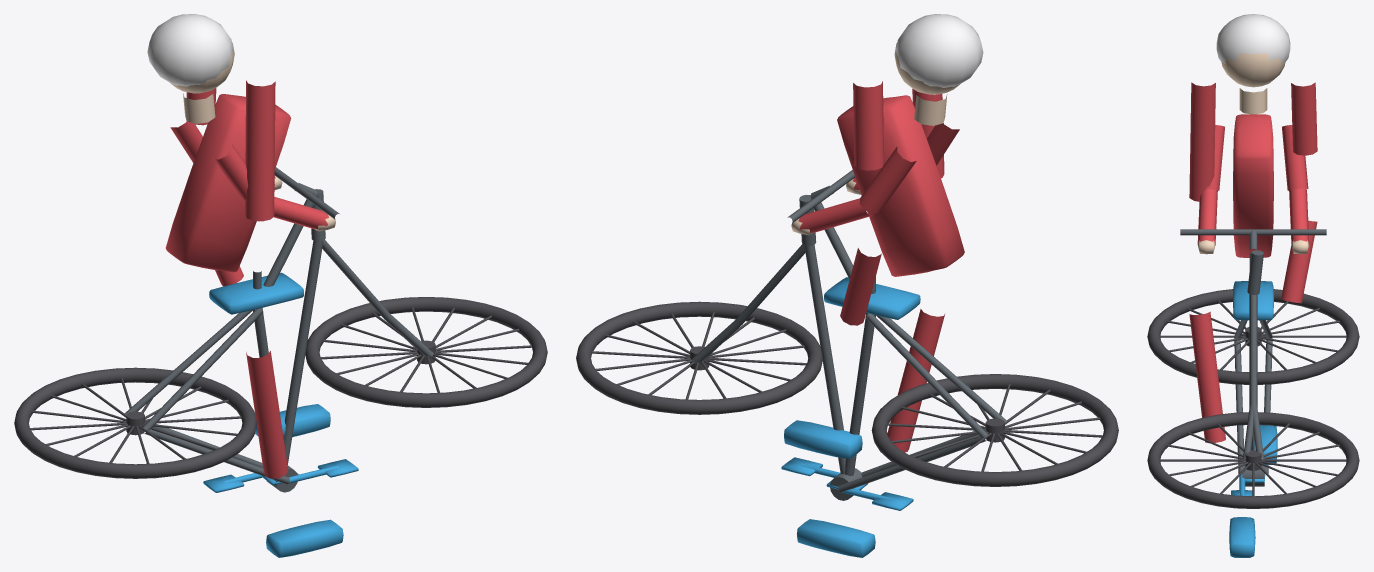
The model's file is cyclist-gravel.glb.
3 views of the same model, side by side, from view 1: azimuth 30°, elevation 25°; view 2: azimuth 150°, elevation 25°; view 3: azimuth 270°, elevation 25° (orthographic). The views are drawn at different scales.
Visible parts, largest first — view 1: riderBody, frame, wheelFront, wheelRear, thighR, shinR; view 2: riderBody, frame, wheelFront, wheelRear, thighL, shinR, shinL; view 3: riderBody, wheelFront, wheelRear, frame, thighR, shinR, thighL, shinL.
Part boxes in pixels (x1=…): riderBody: x1=147, y1=14, x2=343, y2=557; frame: x1=124, y1=167, x2=433, y2=492; wheelFront: x1=305, y1=297, x2=547, y2=407; wheelRear: x1=14, y1=367, x2=256, y2=478; thighR: x1=245, y1=80, x2=275, y2=221; shinR: x1=246, y1=351, x2=288, y2=478; riderBody: x1=784, y1=14, x2=983, y2=557; frame: x1=692, y1=170, x2=1006, y2=510; wheelFront: x1=576, y1=301, x2=822, y2=414; wheelRear: x1=871, y1=374, x2=1118, y2=486; thighL: x1=853, y1=81, x2=884, y2=170; shinR: x1=887, y1=309, x2=945, y2=452; shinL: x1=840, y1=248, x2=881, y2=325; riderBody: x1=1197, y1=14, x2=1309, y2=557; wheelFront: x1=1147, y1=412, x2=1359, y2=508; wheelRear: x1=1147, y1=289, x2=1359, y2=384; frame: x1=1180, y1=229, x2=1326, y2=495; thighR: x1=1189, y1=82, x2=1215, y2=201; shinR: x1=1189, y1=311, x2=1225, y2=443; thighL: x1=1291, y1=82, x2=1317, y2=155; shinL: x1=1281, y1=220, x2=1317, y2=303.
Bounding box in the file's own units: 1.72 × 1.81 × 0.724.
